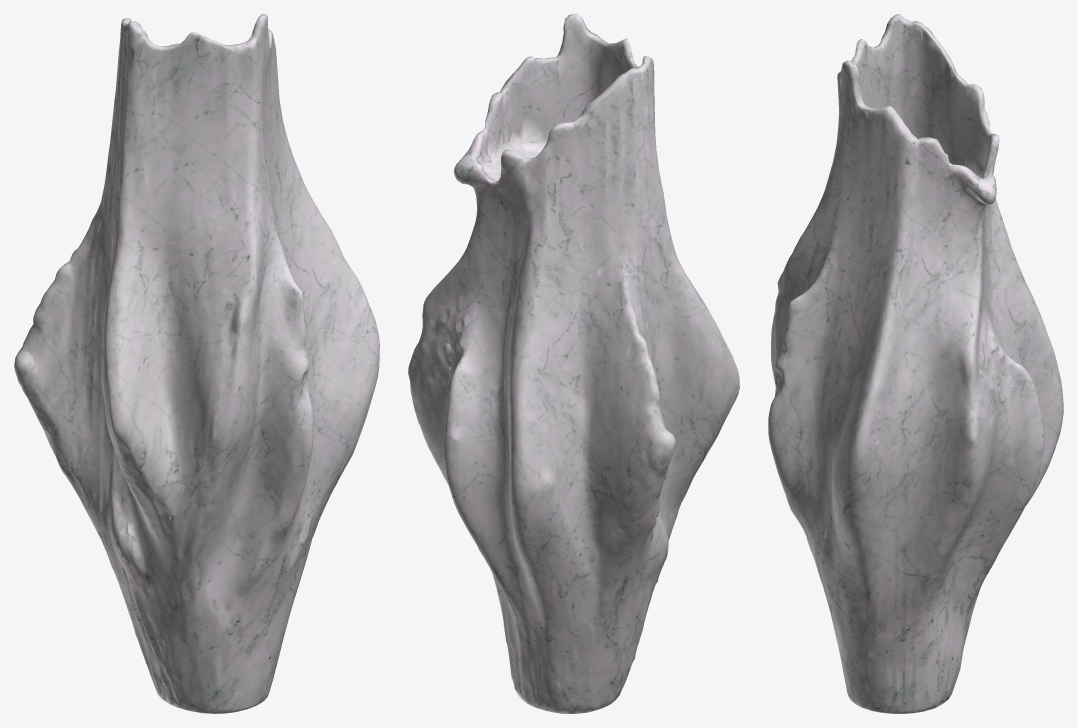
File: vasePeak.glb
3 views of the same model, side by side, from view 1: azimuth 30°, elevation 25°; view 2: azimuth 150°, elevation 25°; view 3: azimuth 270°, elevation 25° (orthographic). The views are drawn at different scales.
Parts seen in each view (by area): view 1: world.002; view 2: world.002; view 3: world.002.
Boxes of the visible parts, box(x1,y1,x2,y2) form: world.002: box(14, 14, 379, 713); world.002: box(408, 14, 739, 713); world.002: box(768, 14, 1063, 713).
Bounding box in the file's own units: 0.4496 × 0.9954 × 0.4156.
1 material, 1 textured.
